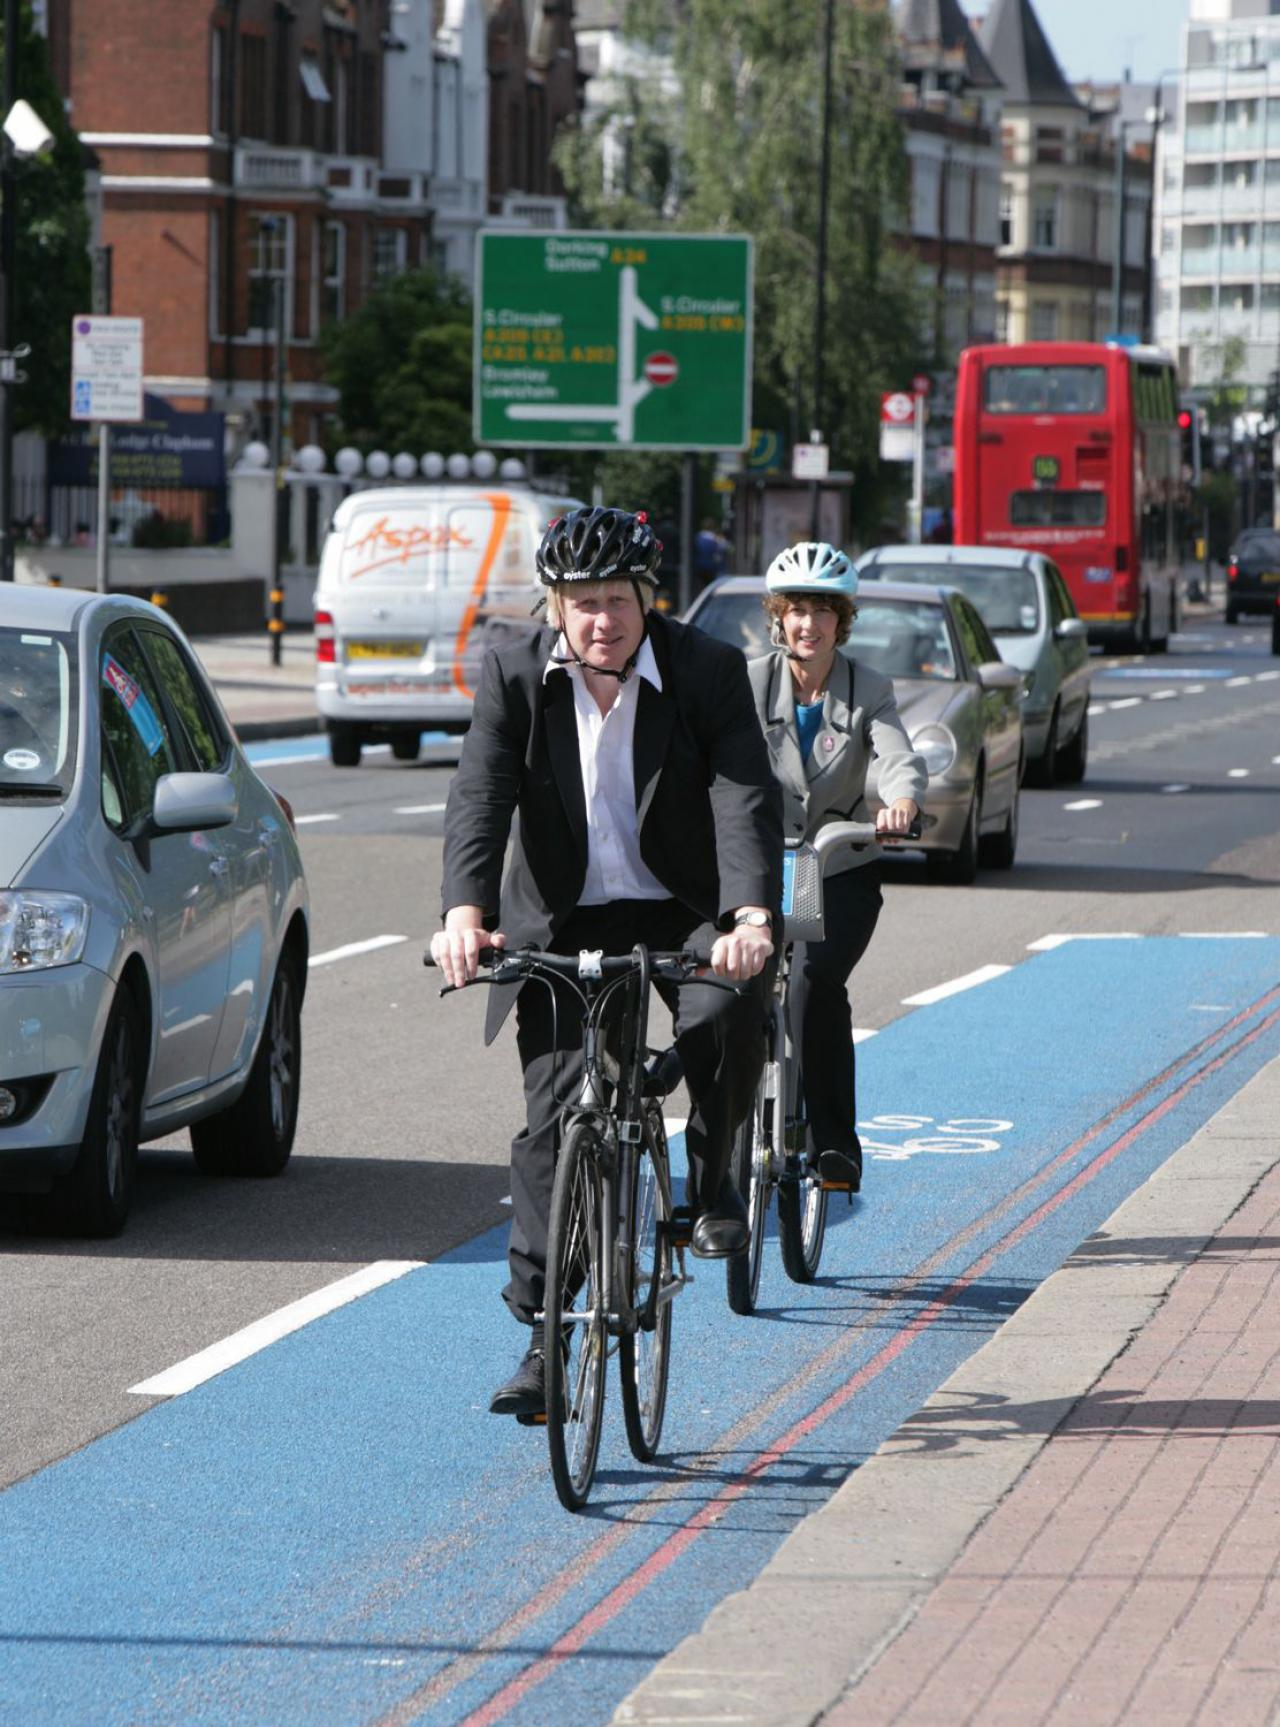helmet: (535, 505, 664, 667), (766, 540, 859, 661)
